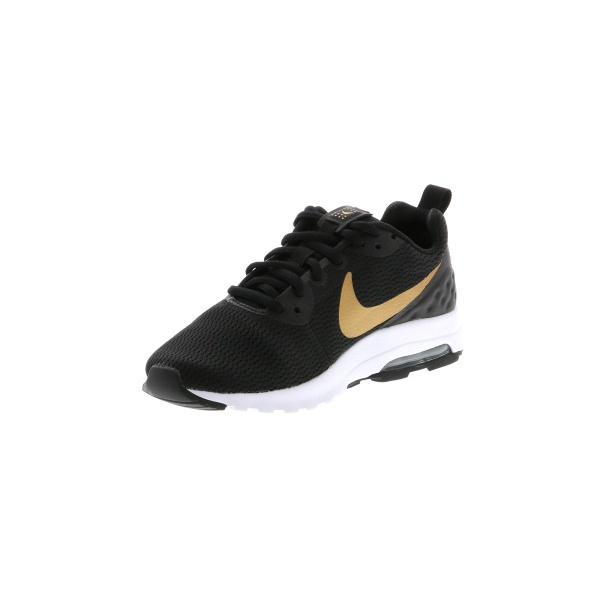nike: (331, 264, 442, 339)
